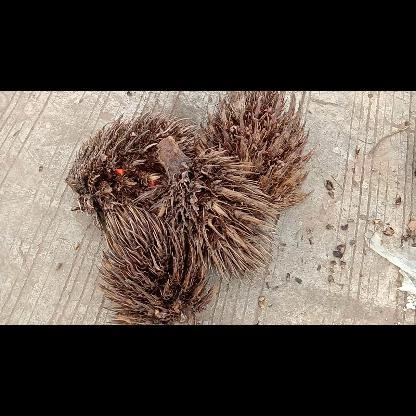Janjang kosong: (156, 136, 286, 286), (65, 112, 199, 232), (94, 204, 216, 324), (197, 90, 314, 209)
